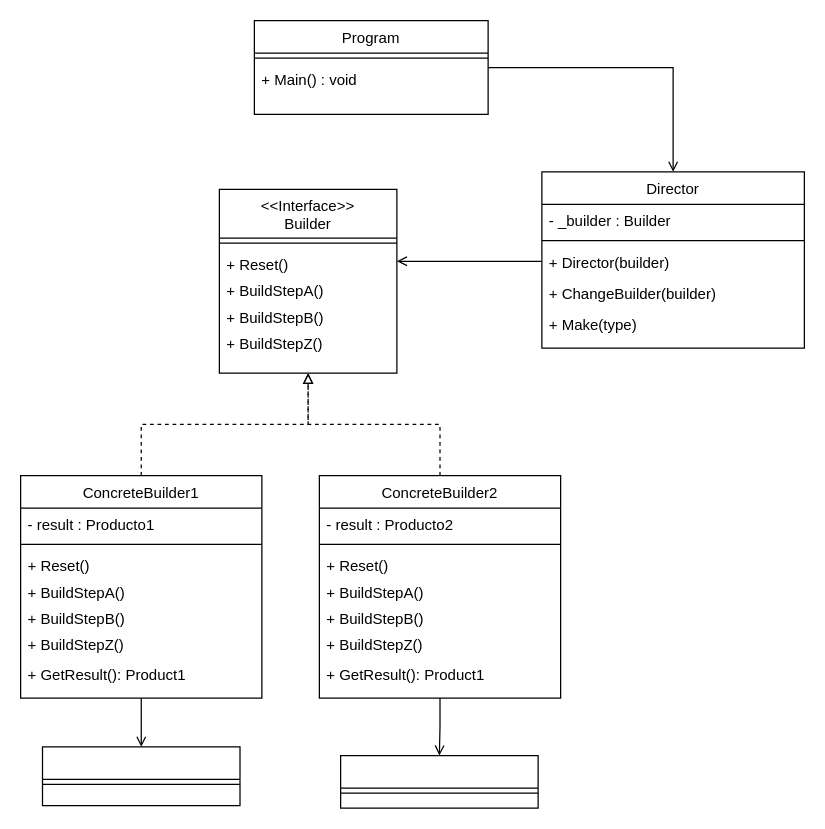
The diagram is 825 pixels wide and 829 high, and some of its shapes have lost their labels. Each missing label, with the centre of its shape:
"Producto1" goes at [140,776].
"Producto2" goes at [438,781].
